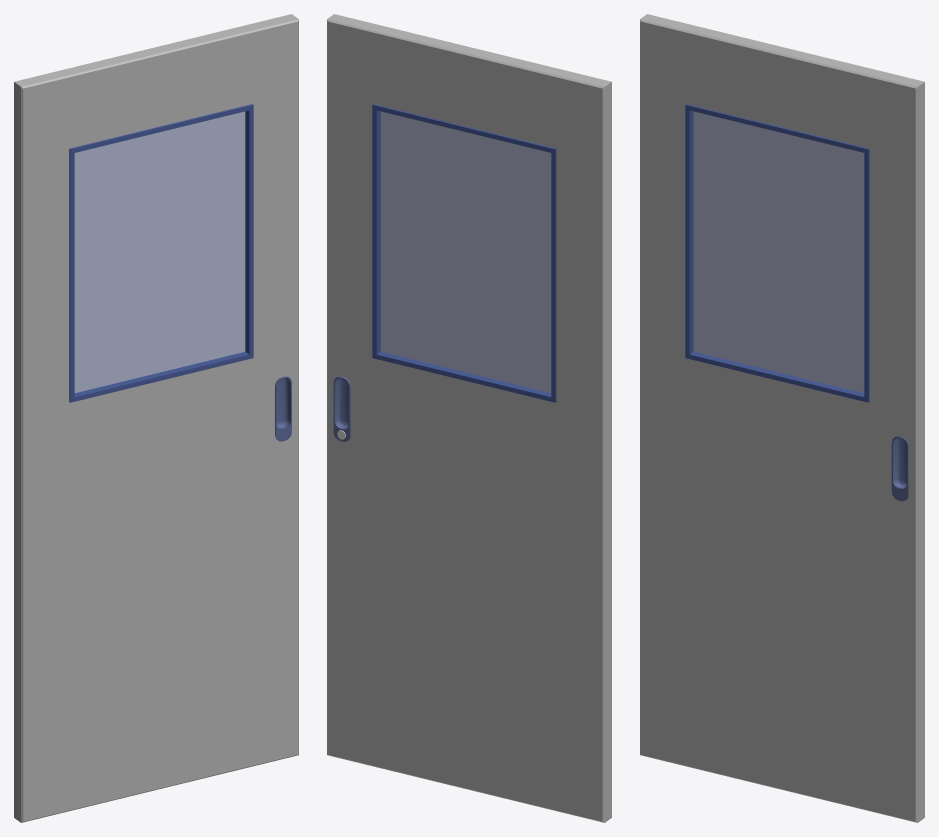
Rendered from Door_01_SM.FBX.
3 renders of one model, left to right at view 1: azimuth 30°, elevation 25°; view 2: azimuth 150°, elevation 25°; view 3: azimuth 330°, elevation 25°, orthographic.
Visible parts, largest first — view 1: Door_01_SM; view 2: Door_01_SM; view 3: Door_01_SM.
Boxes of the visible parts, x1,y1,x2,y2 form: Door_01_SM: (14,14,298,822); Door_01_SM: (327,14,611,822); Door_01_SM: (640,14,924,822).
Bounding box in the file's own units: 61.58 × 4.32 × 156.
